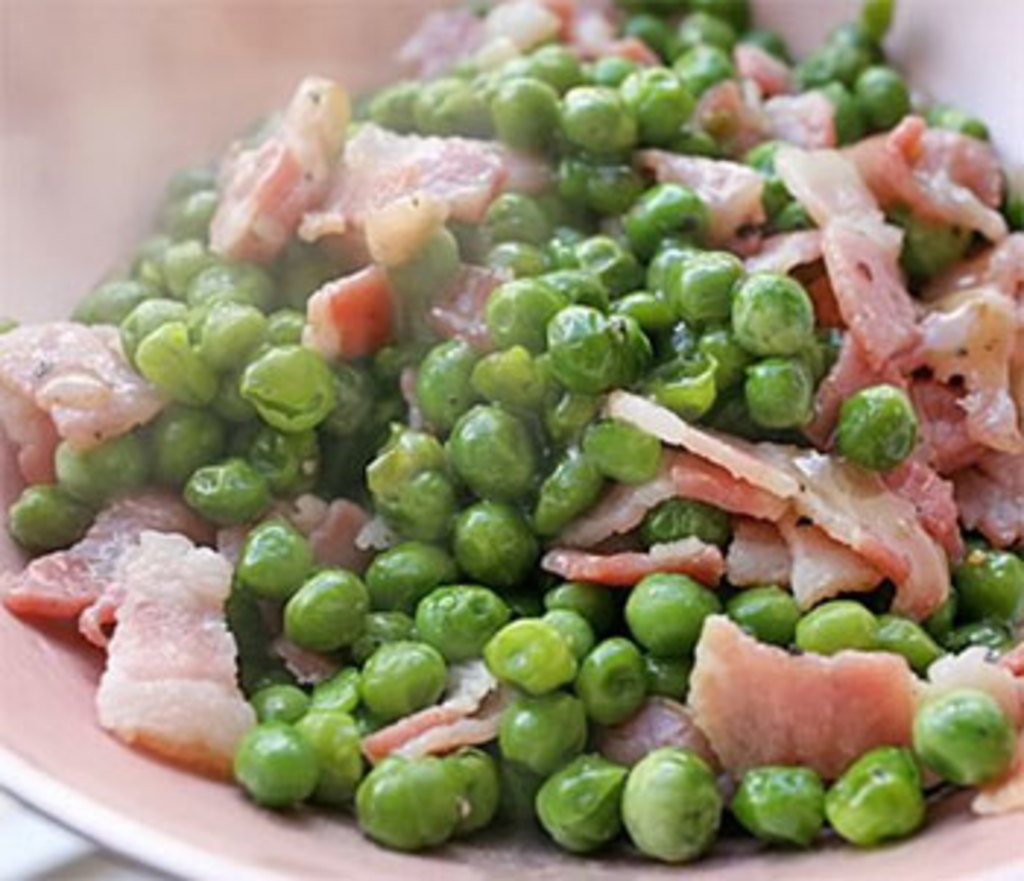salad: (0, 0, 1015, 863)
